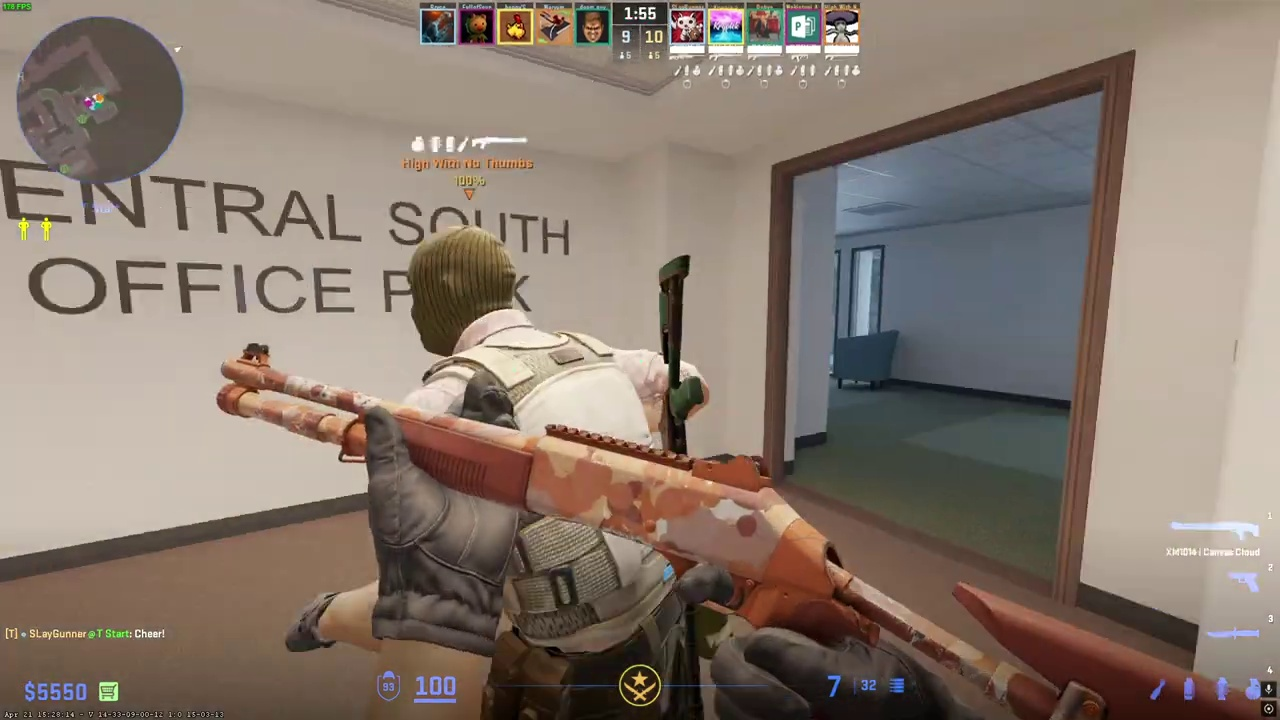Terrorist: (355, 226, 709, 720)
